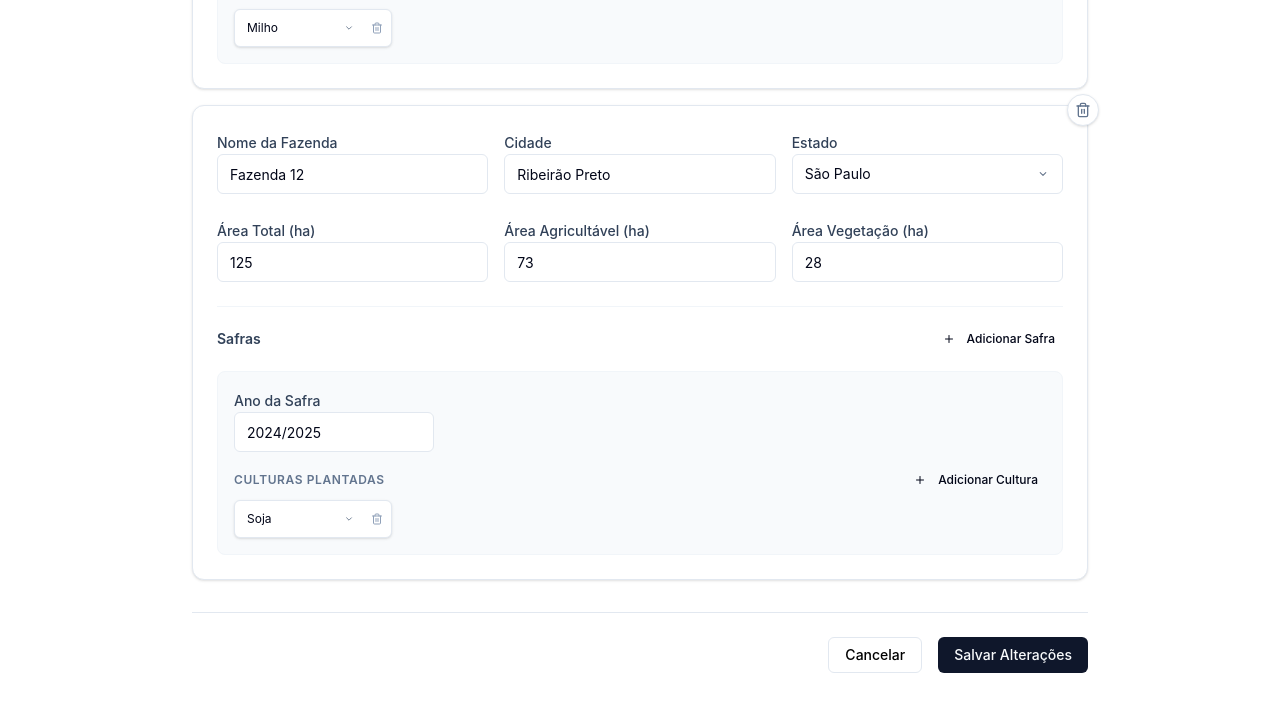
EditProducer › exibe erro de API ao salvar
The width and height of the screenshot is (1280, 727).
(page scrolled)
Click the button "Salvar Alterações" at (1013,655), box x1=938 y1=637 x2=1088 y2=673
(page scrolled)
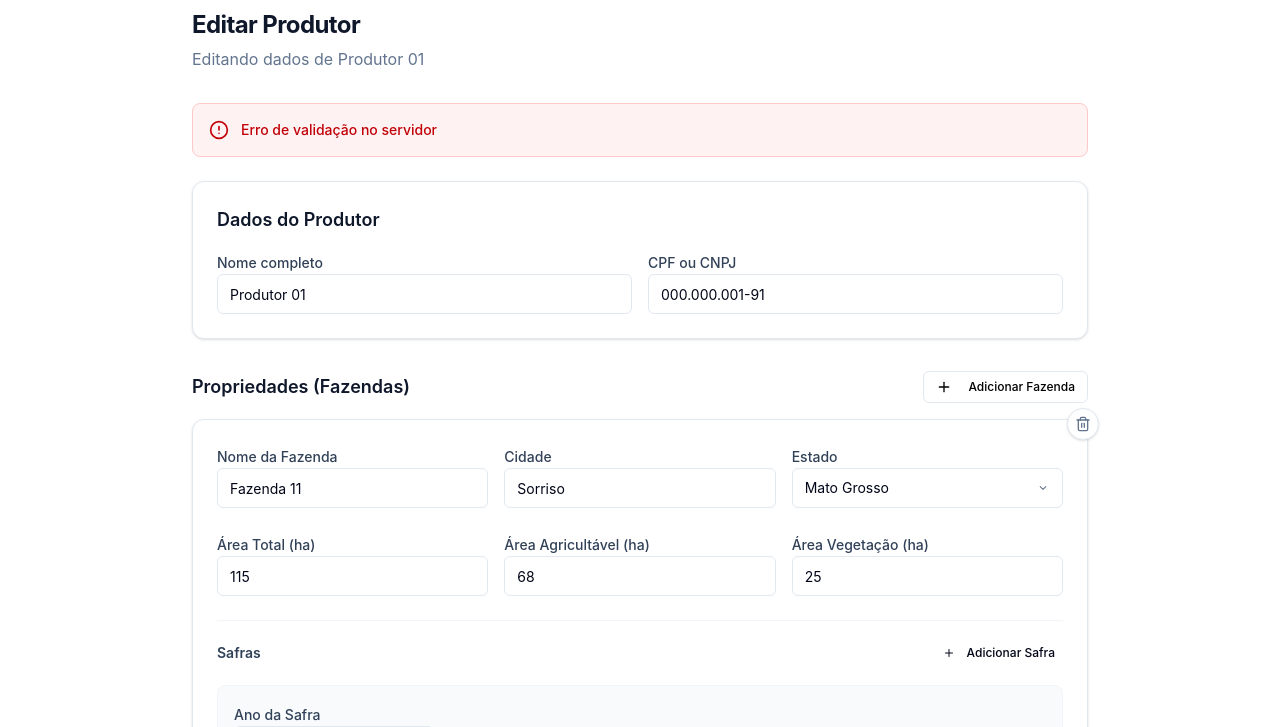
Check: the text "Erro de validação no servidor" is shown, box x1=241 y1=120 x2=437 y2=140
